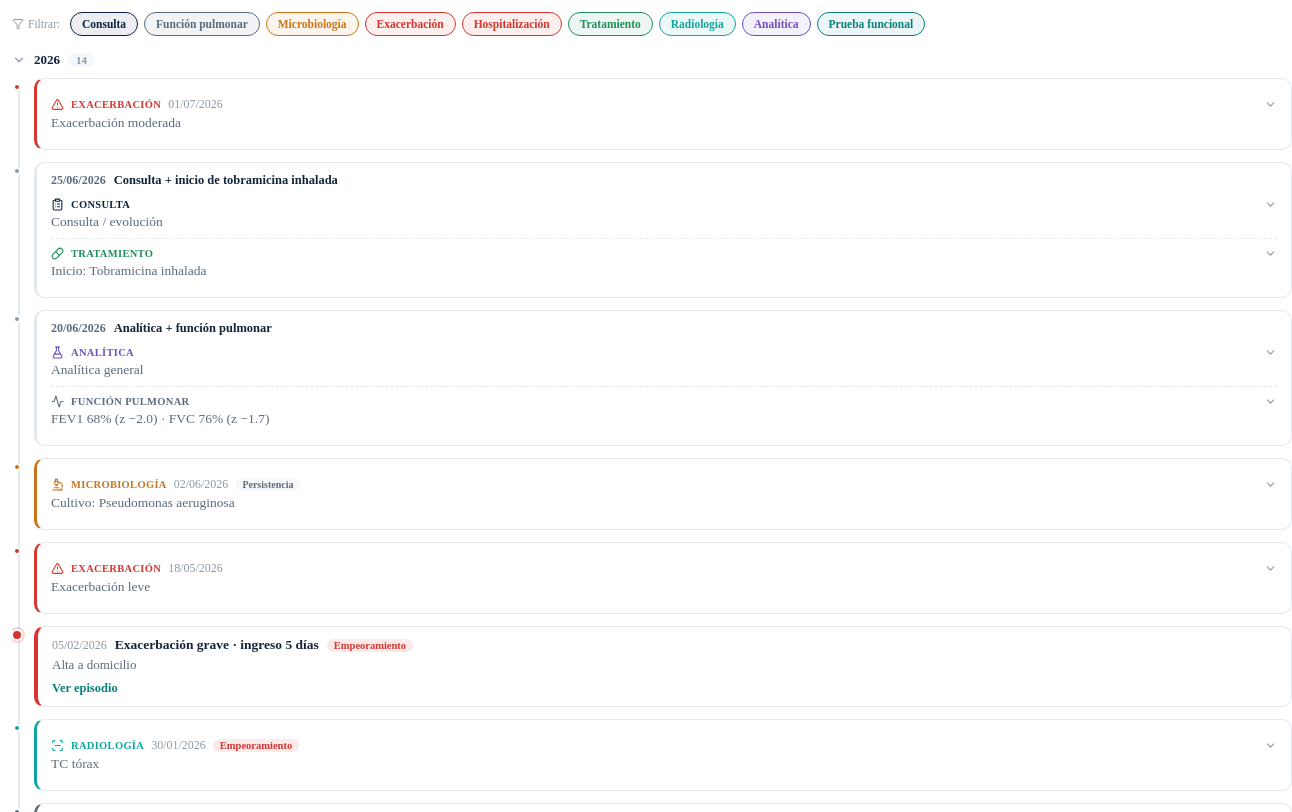
it: TimelineTab › muestra el z-score de FEV1/FVC junto al % del predicho, y la comparación longitudinal con la prueba anterior al expandir
Click the text "FEV1 68% (z −2.0) · FVC 76% (z −1.7)": (160, 418) [51,411,270,426]
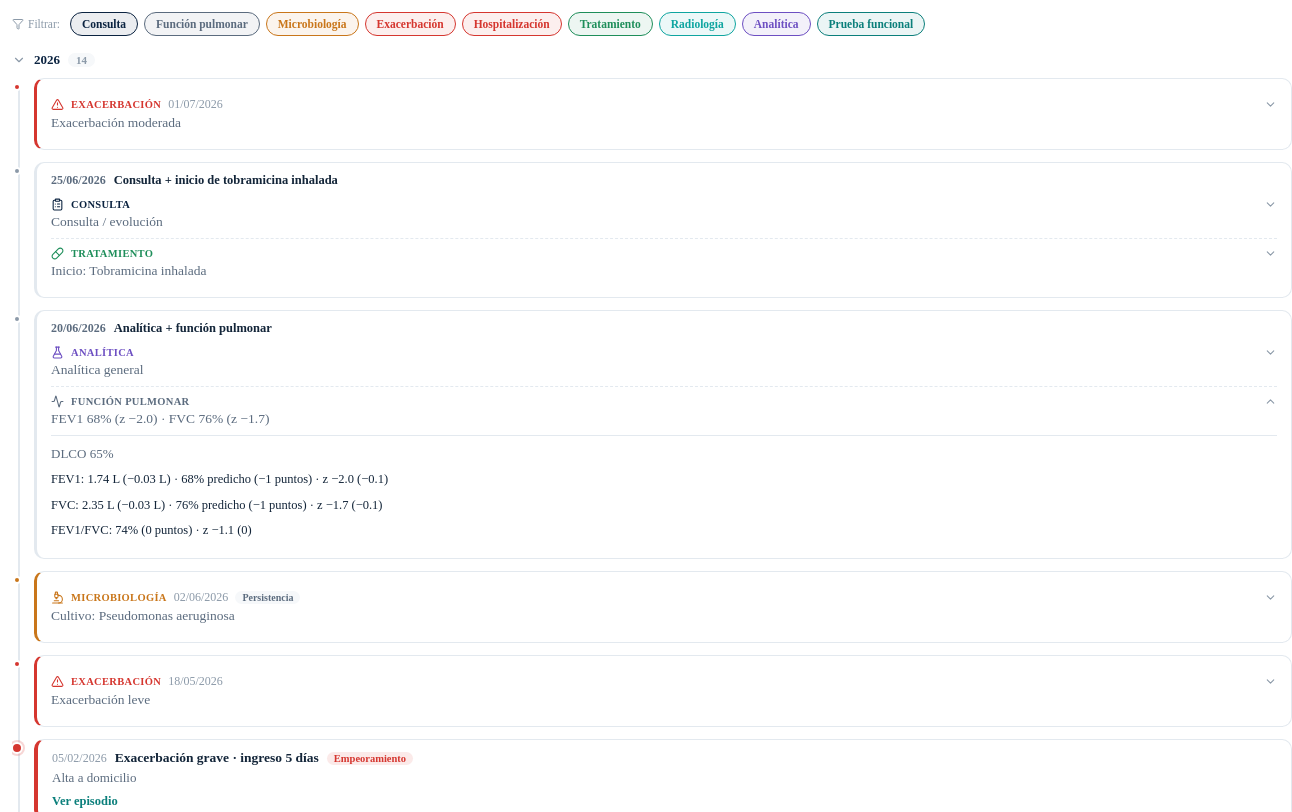
Check: the text "z −2.0 (−0.1)" is shown, box [51,472,388,486]
